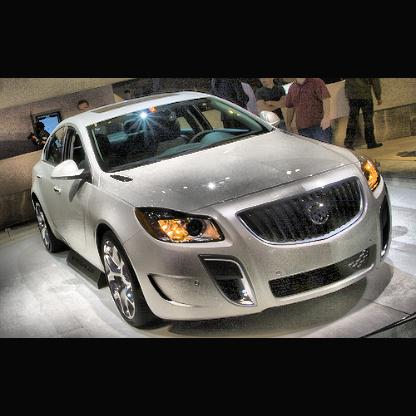Buick Regal GS 2012: (31, 91, 397, 332)
